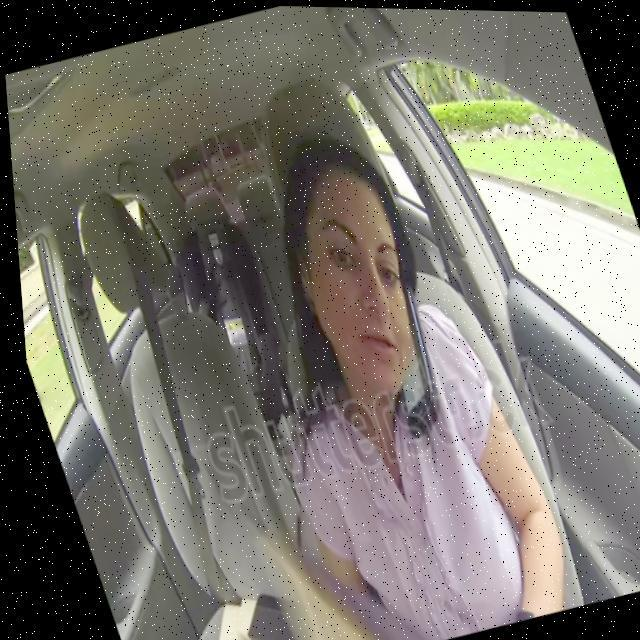PhoneCall: (363, 282, 450, 434)
